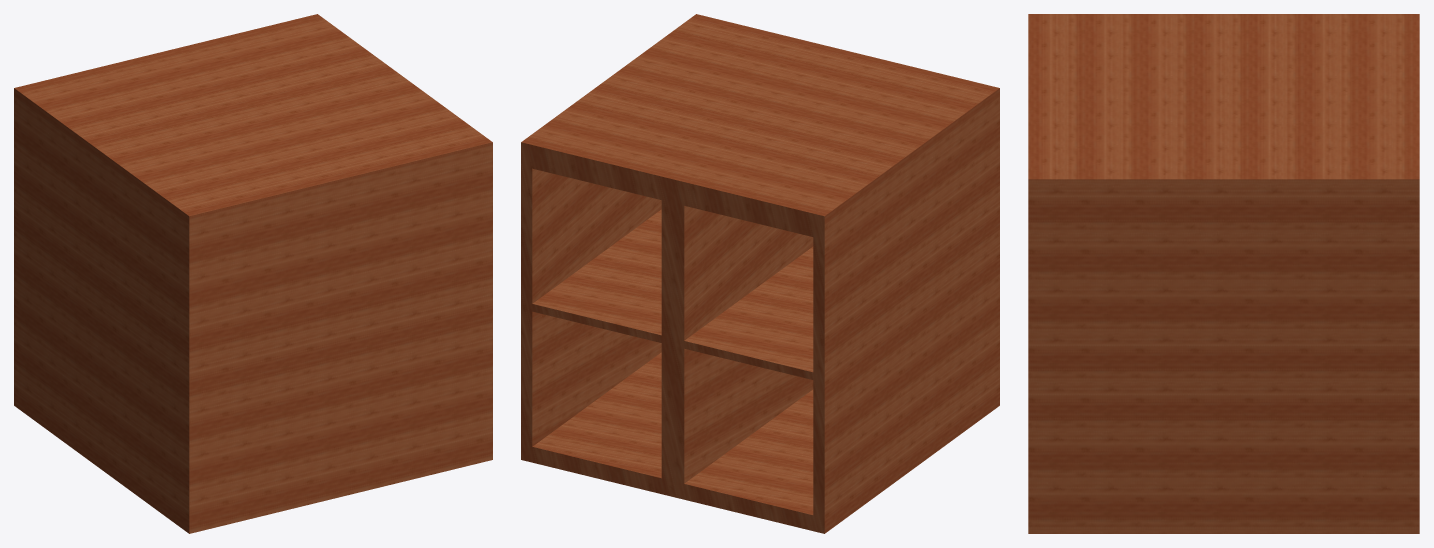
The model's file is BookShelf.fbx.
3 views of the same model, side by side, from view 1: azimuth 30°, elevation 25°; view 2: azimuth 150°, elevation 25°; view 3: azimuth 270°, elevation 25° (orthographic). The views are drawn at different scales.
Parts seen in each view (by area): view 1: Box001; view 2: Box001; view 3: Box001.
Boxes of the visible parts, x1,y1,x2,y2 form: Box001: (14, 14, 492, 533); Box001: (521, 14, 999, 533); Box001: (1028, 14, 1419, 533).
Bounding box in the file's own units: 19.69 × 19.69 × 19.69.
1 material, 1 textured.
